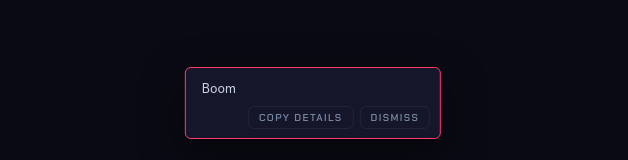
Test: Toasts › says a refused copy failed, what to do instead, and logs the cause
This screenshot has width=628, height=160.
Step 1. Click the button "Copy details" → {"x": 301, "y": 118}, box [248, 106, 353, 129]
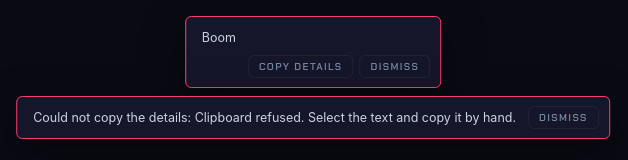
expect the messages read "Boom", "Could not copy the details: Clipboard refused. Select the text and copy it by hand.", in this order: met, box [202, 30, 236, 45]; [33, 106, 516, 127]
